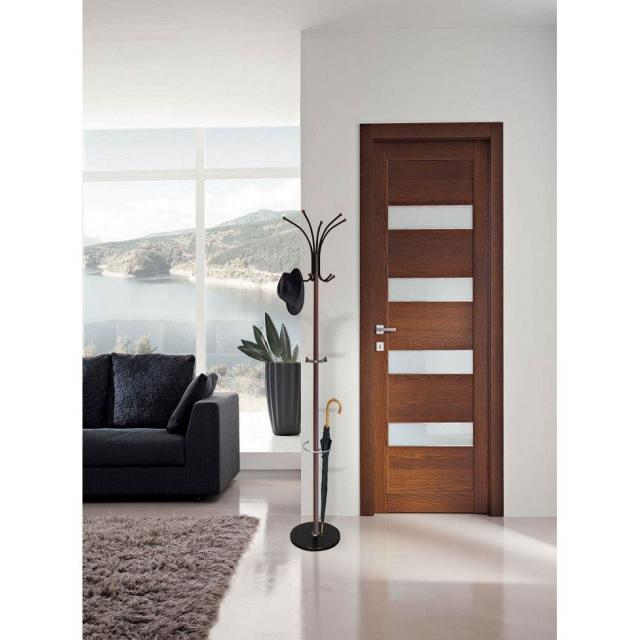close: (359, 124, 506, 516)
